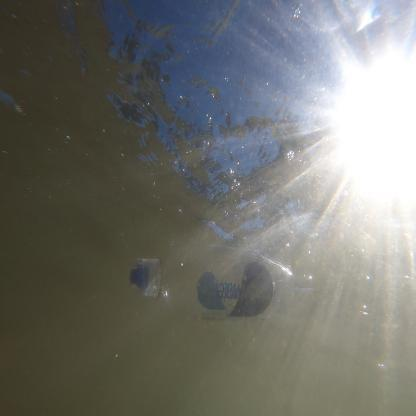Rác: (127, 244, 304, 314)
